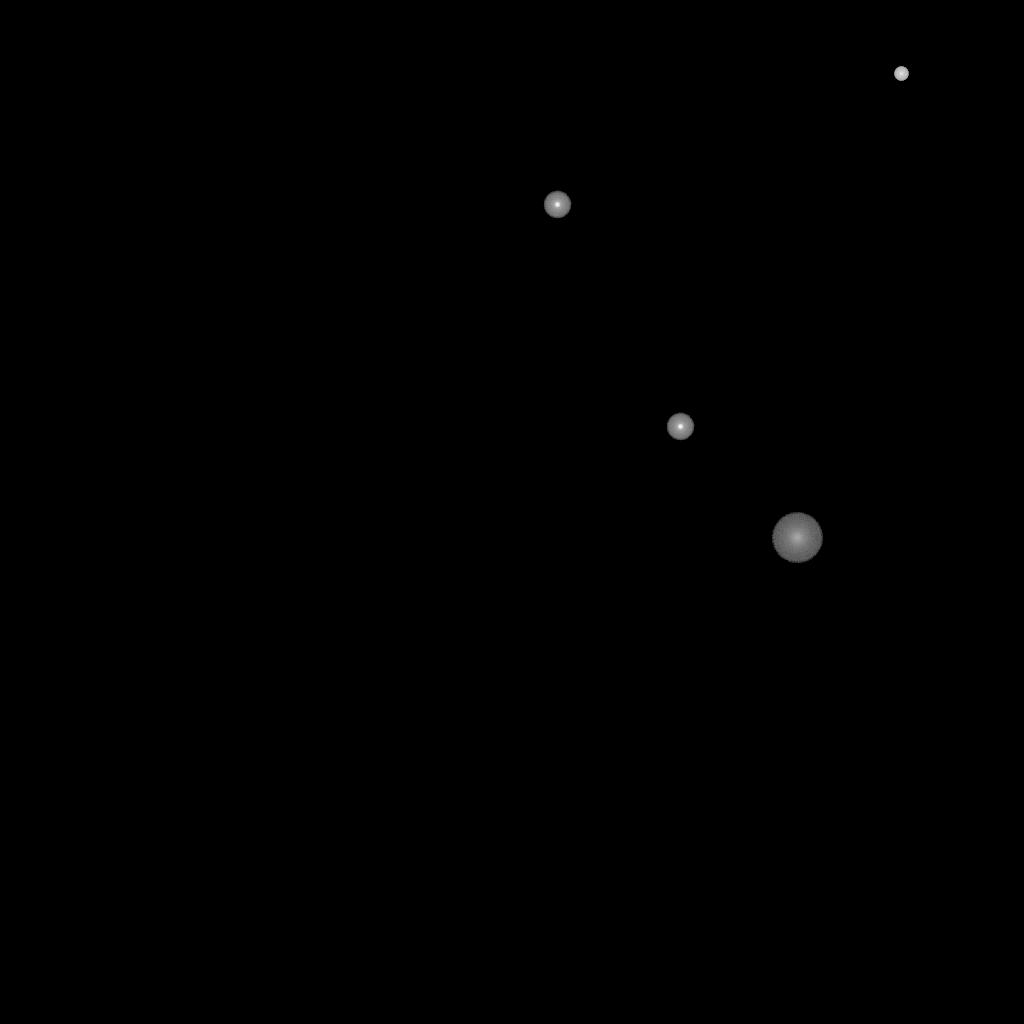depth:-10: (543, 191, 571, 219), (666, 413, 694, 441)
depth:-30: (894, 67, 908, 81)
depth:20: (771, 513, 823, 563)
